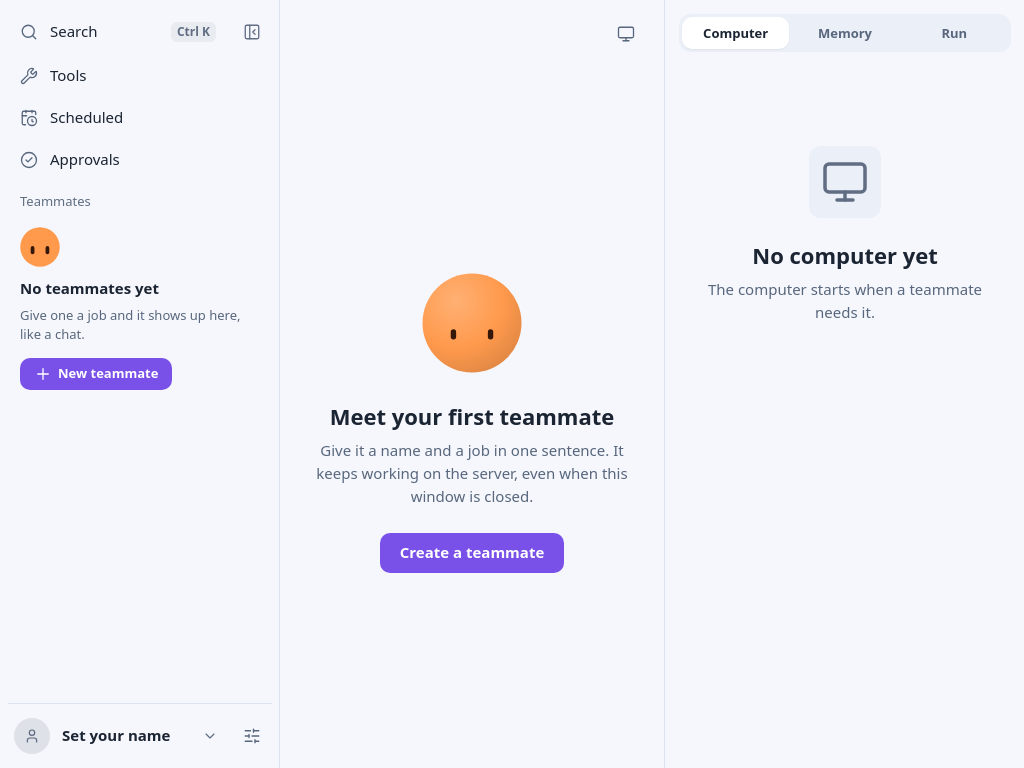
it: teammates landing › asks for a name and a model before creating
Click the button "Create a teammate".
click(472, 553)  # box [380,533,564,573]
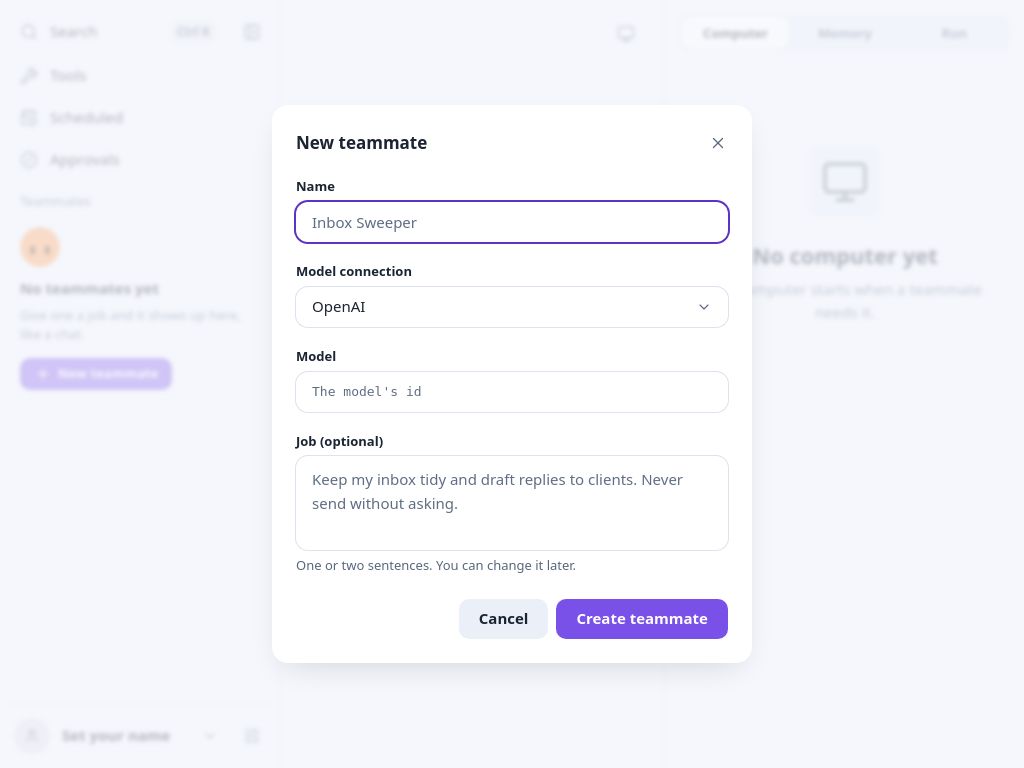
Click the button "Create teammate".
click(642, 619)  # box [556,599,728,639]
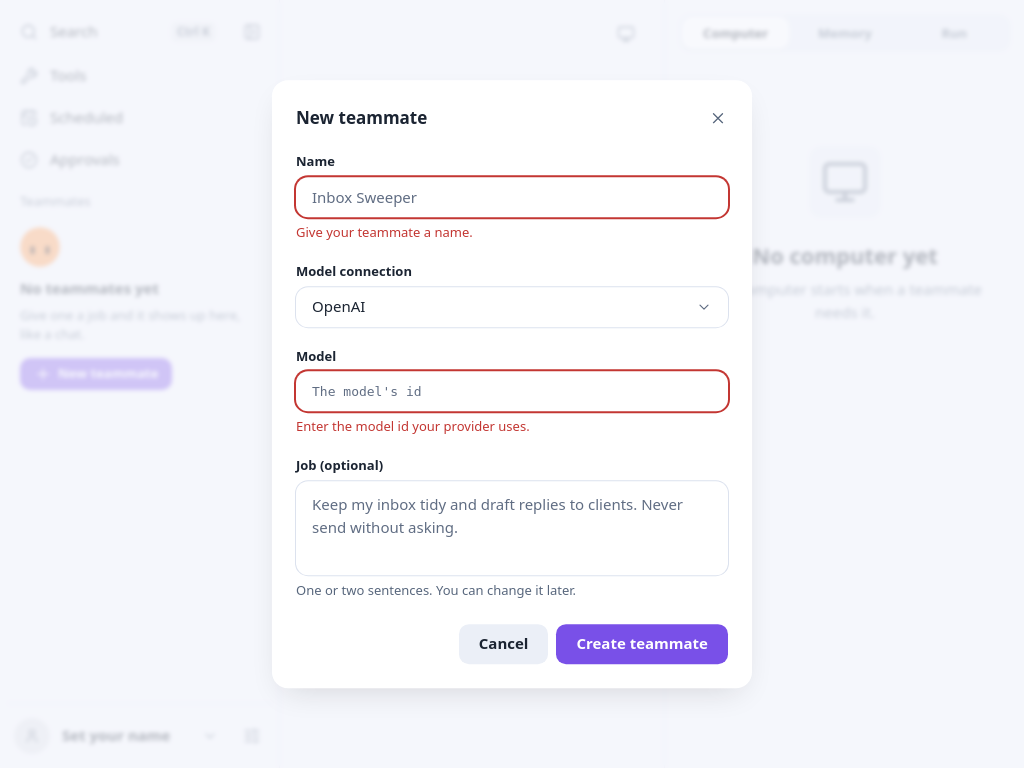
Expected: the text "Give your teammate a name." is shown, [296,223,473,241]
Expected: the text "Enter the model id your provider uses." is shown, [296,418,530,436]
